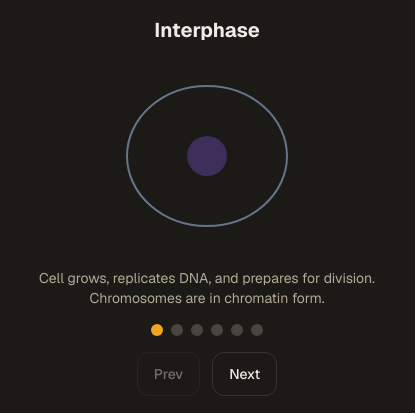
Test: MitosisSteps › navigates through all phases
What coordinates should you click on to do the following:
click the button "Next"
I would click on:
 (245, 374)
Its box is left=212, top=352, right=277, bottom=396.
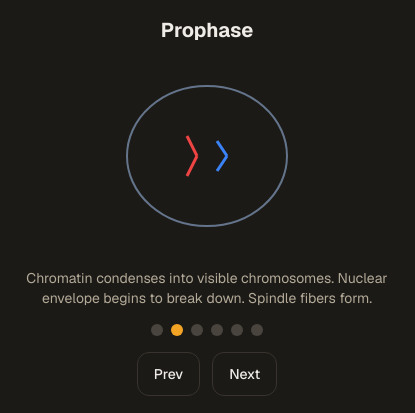
Now the heading "Prophase" is shown, box left=161, top=16, right=253, bottom=44
What coordinates should you click on to do the following:
click the button "Next"
I would click on:
 (245, 374)
Its box is left=212, top=352, right=277, bottom=396.
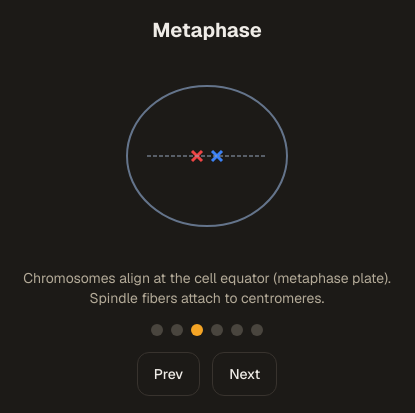
Now the heading "Metaphase" is shown, box left=152, top=16, right=262, bottom=44
What coordinates should you click on to do the following:
click the button "Next"
I would click on:
 (245, 374)
Its box is left=212, top=352, right=277, bottom=396.
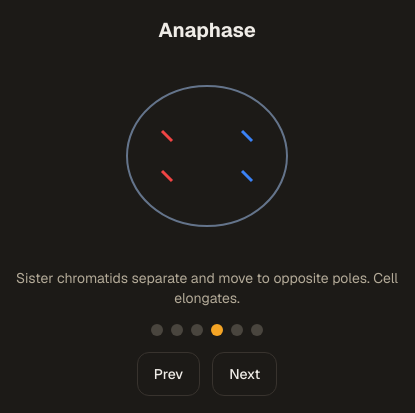
Now the heading "Anaphase" is shown, box left=158, top=16, right=256, bottom=44
What coordinates should you click on to do the following:
click the button "Next"
I would click on:
 (245, 374)
Its box is left=212, top=352, right=277, bottom=396.
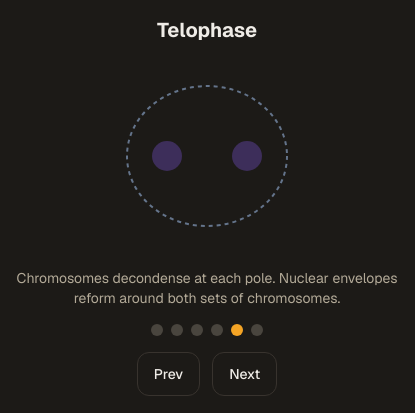
Now the heading "Telophase" is shown, box left=157, top=16, right=257, bottom=44
What coordinates should you click on to do the following:
click the button "Next"
I would click on:
 (245, 374)
Its box is left=212, top=352, right=277, bottom=396.
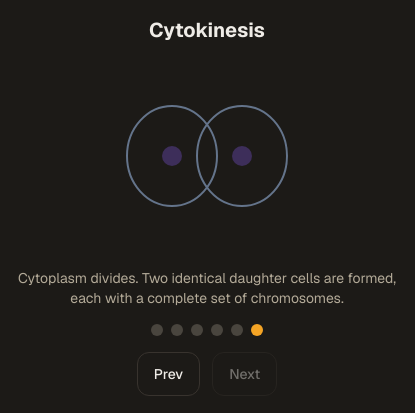
Now the heading "Cytokinesis" is shown, box left=149, top=16, right=265, bottom=44
